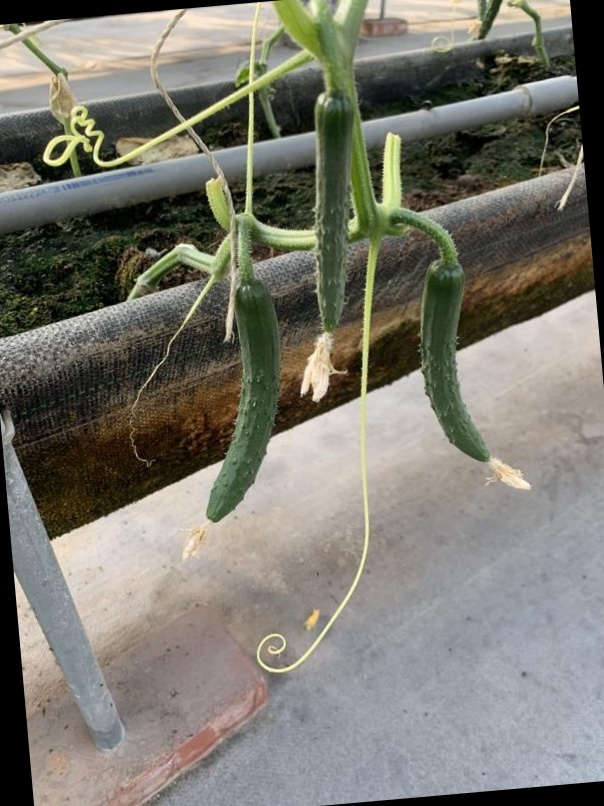growth: (420, 254, 503, 478), (305, 88, 362, 342)
mature: (198, 274, 285, 526)
